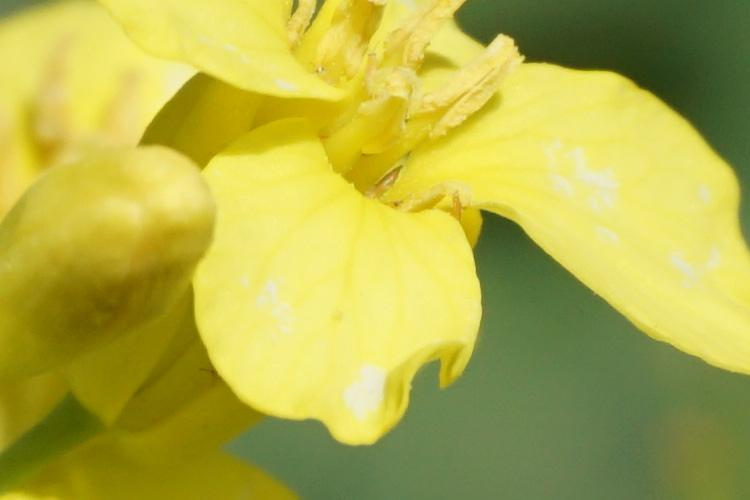bud: (2, 153, 217, 386)
yellow: (137, 5, 750, 431)
